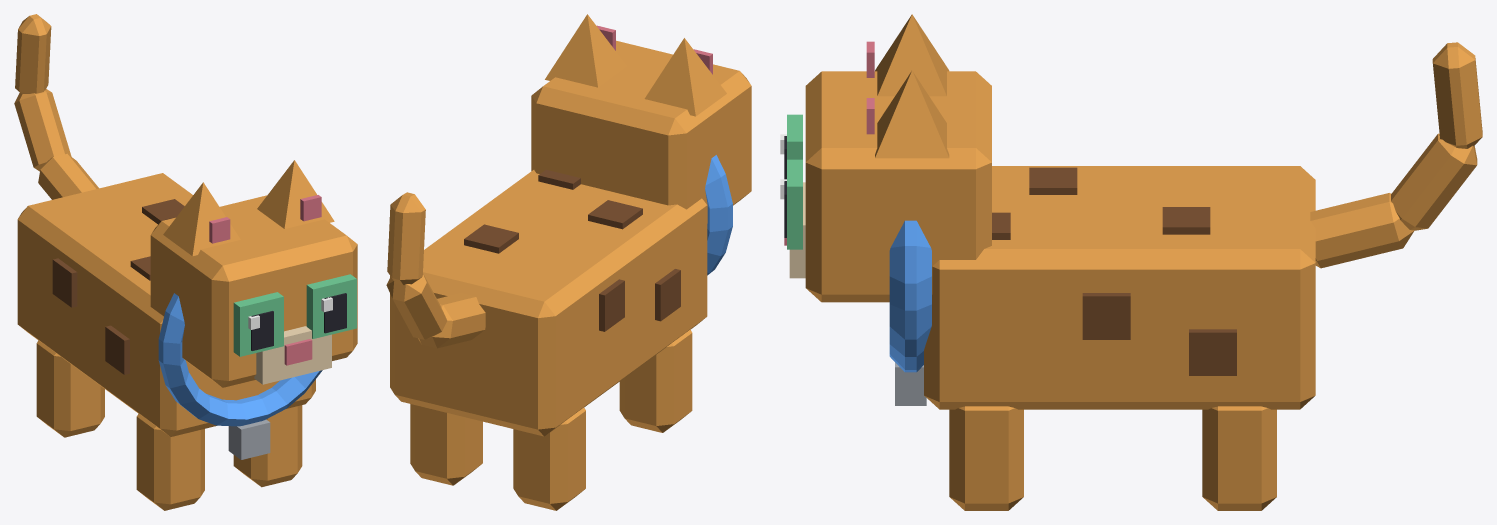
File: CatCafe_Cat_Bengal.fbx
3 renders of one model, left to right at view 1: azimuth 30°, elevation 25°; view 2: azimuth 150°, elevation 25°; view 3: azimuth 270°, elevation 25°, orthographic. The views are drawn at different scales.
Visible parts, largest first — view 1: CatCafe_Cat_Bengal_Body, CatCafe_Cat_Bengal_Head, CatCafe_Cat_Bengal_Tail; view 2: CatCafe_Cat_Bengal_Body, CatCafe_Cat_Bengal_Head, CatCafe_Cat_Bengal_Tail; view 3: CatCafe_Cat_Bengal_Body, CatCafe_Cat_Bengal_Head, CatCafe_Cat_Bengal_Tail.
Part boxes in pixels (x1,y1,x2,y2): CatCafe_Cat_Bengal_Body: [17, 173, 322, 510]; CatCafe_Cat_Bengal_Head: [150, 160, 357, 387]; CatCafe_Cat_Bengal_Tail: [14, 14, 98, 199]; CatCafe_Cat_Bengal_Body: [390, 155, 732, 510]; CatCafe_Cat_Bengal_Head: [531, 14, 751, 223]; CatCafe_Cat_Bengal_Tail: [386, 192, 485, 348]; CatCafe_Cat_Bengal_Body: [889, 166, 1315, 510]; CatCafe_Cat_Bengal_Head: [780, 14, 991, 302]; CatCafe_Cat_Bengal_Tail: [1310, 42, 1482, 268].
Bounding box in the file's own units: 0.97 × 1.78 × 2.64.
1 material, 1 textured.
